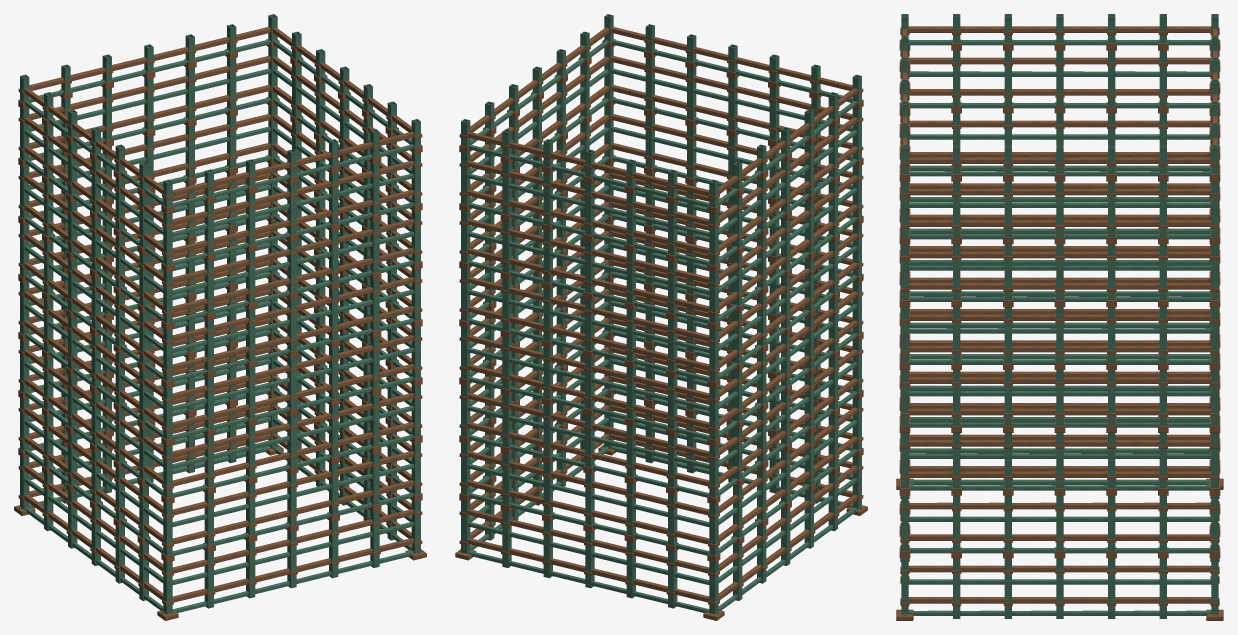
The picture shows the model from 3 angles, left to right: view 1: azimuth 30°, elevation 25°; view 2: azimuth 150°, elevation 25°; view 3: azimuth 270°, elevation 25°; orthographic projection. The views are drawn at different scales.
Size of the model in its own units: 2.85 by 4.53 by 2.85.
2 materials, 2 textured.
